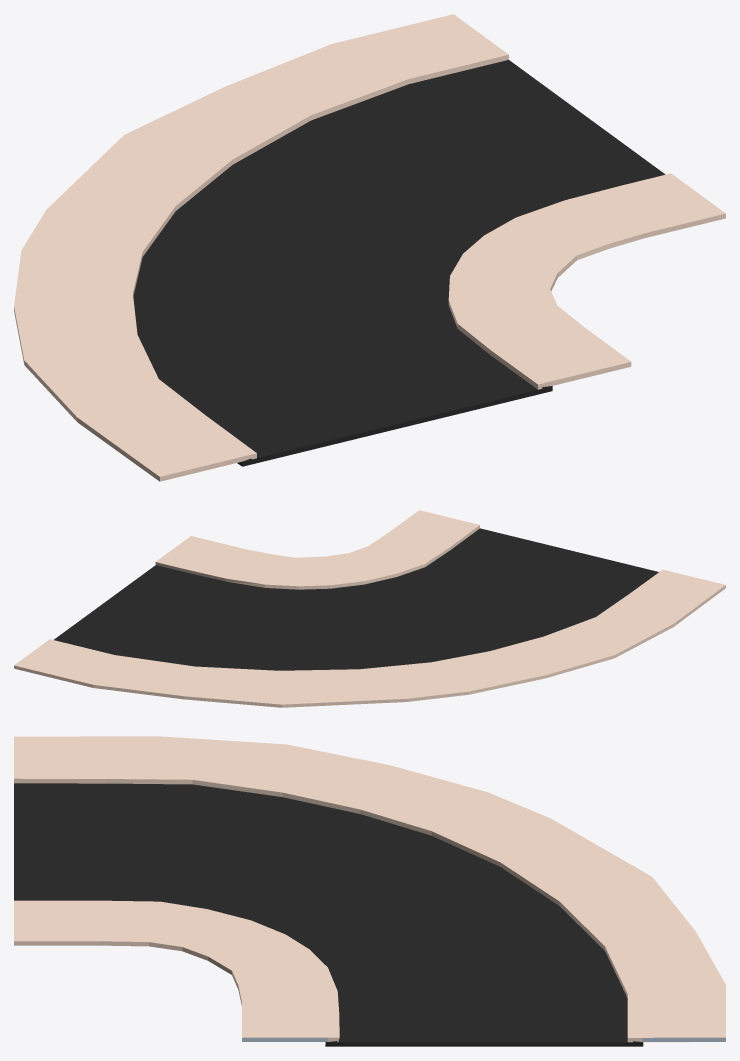
File: Curved Road.fbx
The picture shows the model from 3 angles, top to bottom: view 1: azimuth 30°, elevation 25°; view 2: azimuth 150°, elevation 25°; view 3: azimuth 270°, elevation 25°; orthographic projection. The views are drawn at different scales.
Visible parts, largest first — view 1: Curve road, Curve road.001; view 2: Curve road, Curve road.001; view 3: Curve road, Curve road.001.
Boxes of the visible parts, bbox=[...] form: Curve road: bbox=[133, 60, 665, 466]; Curve road.001: bbox=[14, 14, 725, 481]; Curve road: bbox=[54, 528, 658, 670]; Curve road.001: bbox=[14, 510, 725, 707]; Curve road: bbox=[14, 783, 725, 1046]; Curve road.001: bbox=[14, 736, 725, 1042].
Size of the model in its own units: 293 by 4.03 by 292.
